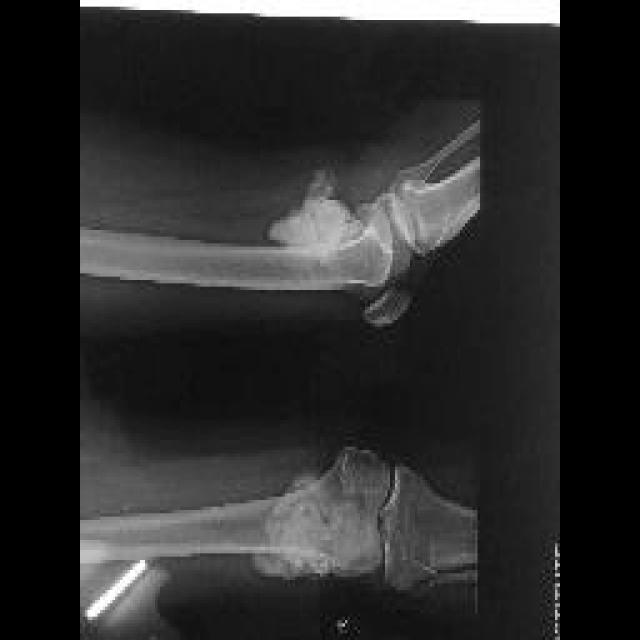bone-cancer: (266, 163, 374, 265), (260, 472, 340, 575)
